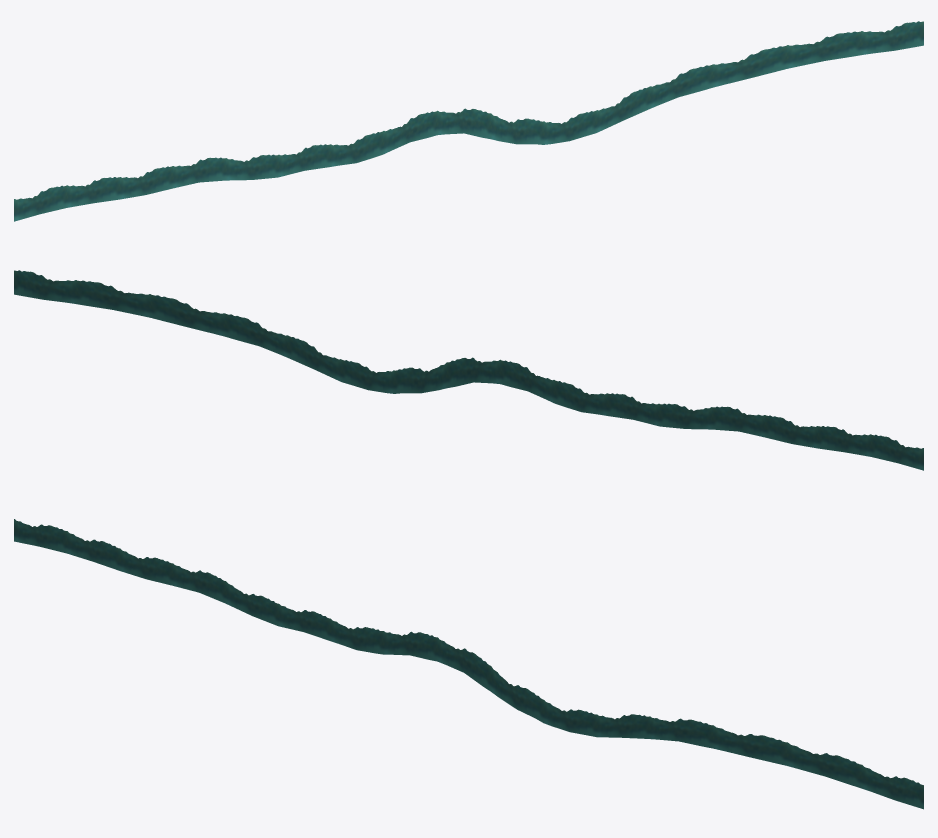
Rendered from Horizon Forest.FBX.
3 renders of one model, top to bottom at view 1: azimuth 30°, elevation 25°; view 2: azimuth 150°, elevation 25°; view 3: azimuth 330°, elevation 25°, orthographic.
Visible parts, largest first — view 1: LVL 1 Horizon Forest 5, LVL 1 Horizon Forest 1, LVL 1 Horizon Forest 2, LVL 1 Horizon Forest 3, LVL 1 Horizon Forest 4; view 2: LVL 1 Horizon Forest 5, LVL 1 Horizon Forest 1, LVL 1 Horizon Forest 2, LVL 1 Horizon Forest 3, LVL 1 Horizon Forest 4; view 3: LVL 1 Horizon Forest 5, LVL 1 Horizon Forest 1, LVL 1 Horizon Forest 2, LVL 1 Horizon Forest 3, LVL 1 Horizon Forest 4.
Boxes of the visible parts, <box> form: LVL 1 Horizon Forest 5: <box>712,21,923,87</box>; LVL 1 Horizon Forest 1: <box>14,157,225,221</box>; LVL 1 Horizon Forest 2: <box>225,120,410,180</box>; LVL 1 Horizon Forest 3: <box>410,108,569,144</box>; LVL 1 Horizon Forest 4: <box>570,64,712,140</box>; LVL 1 Horizon Forest 5: <box>14,270,225,336</box>; LVL 1 Horizon Forest 1: <box>712,406,923,470</box>; LVL 1 Horizon Forest 2: <box>527,369,712,429</box>; LVL 1 Horizon Forest 3: <box>368,357,527,393</box>; LVL 1 Horizon Forest 4: <box>225,313,367,389</box>; LVL 1 Horizon Forest 5: <box>712,725,923,809</box>; LVL 1 Horizon Forest 1: <box>14,519,225,603</box>; LVL 1 Horizon Forest 2: <box>225,581,410,655</box>; LVL 1 Horizon Forest 3: <box>410,631,569,731</box>; LVL 1 Horizon Forest 4: <box>570,709,712,748</box>.
Size of the model in its own units: 16831 by 0.000122 by 1741.
